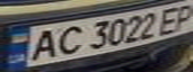0: (106, 16, 130, 47)
2: (136, 9, 163, 39), (124, 11, 148, 43)
3: (87, 19, 112, 51)
A: (21, 27, 66, 62)
C: (48, 24, 87, 56)
E: (154, 3, 190, 35)
P: (169, 1, 193, 31)
